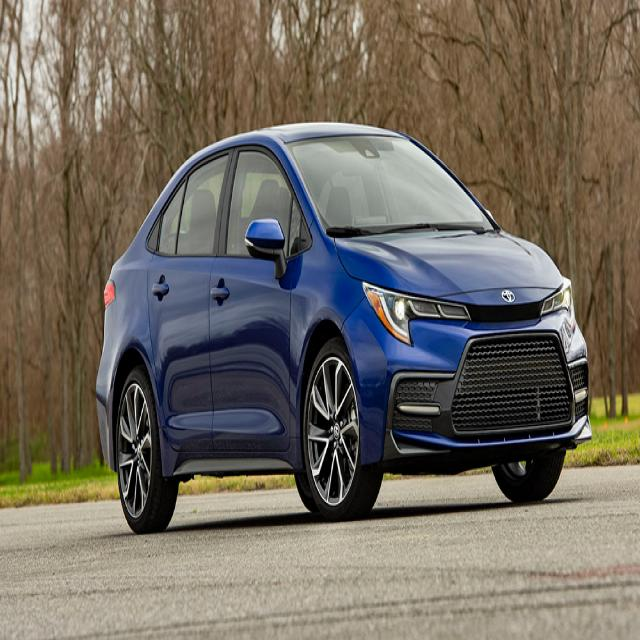car: (92, 85, 600, 566)
